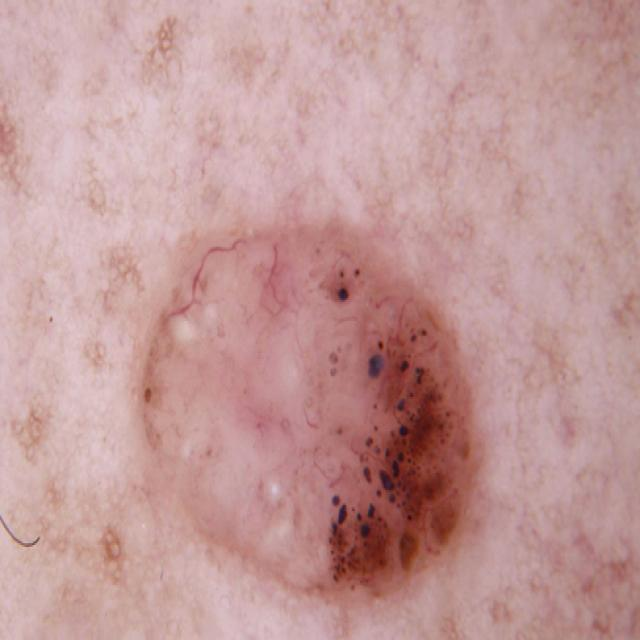Carcinoma: (101, 186, 518, 640)
